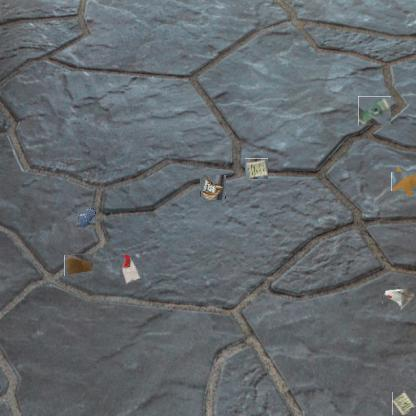dirty: (358, 96, 391, 125), (382, 286, 414, 310), (120, 253, 142, 285), (200, 175, 226, 200), (64, 254, 93, 276), (392, 391, 415, 415), (245, 158, 268, 180)
liquid: (393, 169, 416, 193), (76, 208, 96, 228)
